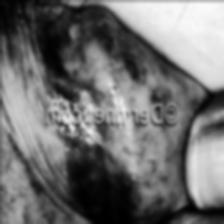Toxin: (64, 134, 128, 218), (35, 19, 83, 98)
